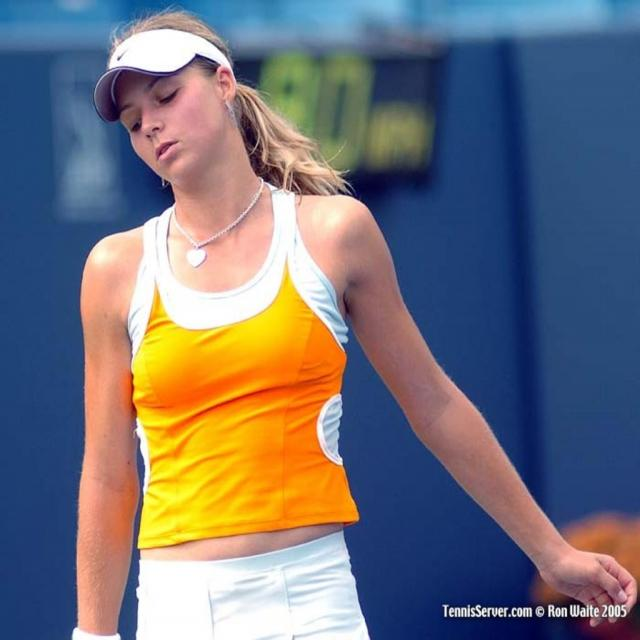nomask: (114, 65, 218, 182)
